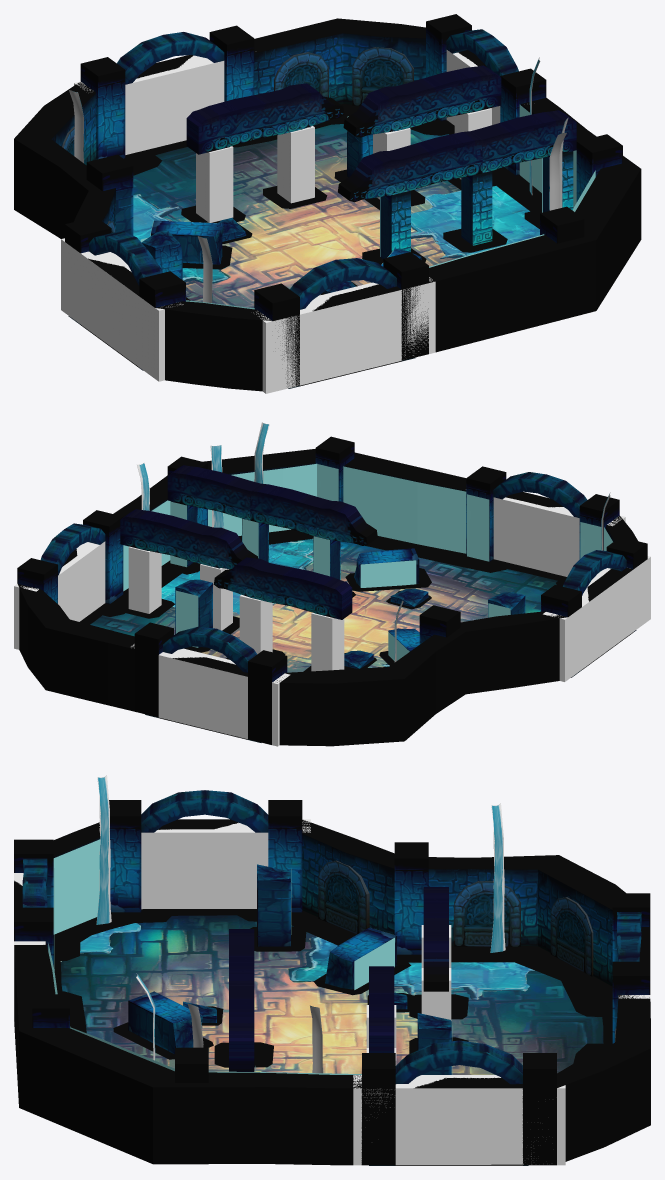
Rendered from Dungeon_051_BossRoom.fbx.
The picture shows the model from 3 angles, top to bottom: view 1: azimuth 30°, elevation 25°; view 2: azimuth 150°, elevation 25°; view 3: azimuth 270°, elevation 25°; orthographic projection. The views are drawn at different scales.
Parts seen in each view (by area): view 1: Dun_051_Room_003_Wall, DoorWay_NavMask (1) (×4), Dun_051_Room_003_Pillar_01, Dun_051_Room_003_Ground, Dun_051_Room_003_Object_01, Dun_051_Obj03_Gate (×2), Dun_051_Door_002_Arch (×4), Dun_051_Room_003_GroundWater_01, Dun_051_Room_003_Wallobject_01, Dun_051_shadow, Cube (2) (×2), Cube (×2) (+4 smaller); view 2: Dun_051_Room_003_Wall, DoorWay_NavMask (1) (×4), Dun_051_Room_003_Pillar_01, Dun_051_Room_003_GroundWater_01_Terikaeshi, Dun_051_Room_003_Ground, Dun_051_Obj03_Gate (×2), Dun_051_Room_003_Object_01, Dun_051_Door_002_Arch (×4), Dun_051_shadow, Cube (×2), Cube (2) (×2), Dun_051_Room_003_GroundWater_01 (+4 smaller); view 3: Dun_051_Room_003_Wall, Dun_051_Room_003_Ground, Dun_051_Room_003_Pillar_01, DoorWay_NavMask (1) (×2), Dun_051_shadow, Dun_051_Door_002_Arch (×4), Dun_051_Room_003_Wallobject_01, Dun_051_Room_003_GroundWater_01_Terikaeshi, Dun_051_Room_003_GroundWater_01, Dun_051_Obj03_Gate (×2), Dun_051_Room_003_Object_01, Dun_051_Water01_Tak_A1 (+5 smaller).
Part boxes in pixels (x1,y1,x2,y2): Dun_051_Room_003_Wall: [14, 18, 641, 391]; DoorWay_NavMask (1) (×4): [61, 50, 500, 393]; Dun_051_Room_003_Pillar_01: [65, 14, 622, 320]; Dun_051_Room_003_Ground: [68, 124, 460, 388]; Dun_051_Room_003_Object_01: [337, 110, 576, 258]; Dun_051_Obj03_Gate (×2): [186, 65, 501, 154]; Dun_051_Door_002_Arch (×4): [89, 29, 518, 309]; Dun_051_Room_003_GroundWater_01: [133, 186, 539, 283]; Dun_051_Room_003_Wallobject_01: [62, 47, 413, 232]; Dun_051_shadow: [124, 104, 541, 300]; Cube (2) (×2): [277, 126, 410, 203]; Cube (×2): [196, 108, 491, 222]; Dun_051_Room_003_Wall: [18, 449, 637, 746]; DoorWay_NavMask (1) (×4): [14, 497, 650, 746]; Dun_051_Room_003_Pillar_01: [17, 436, 647, 744]; Dun_051_Room_003_GroundWater_01_Terikaeshi: [123, 463, 612, 660]; Dun_051_Room_003_Ground: [90, 541, 636, 742]; Dun_051_Obj03_Gate (×2): [120, 509, 352, 619]; Dun_051_Room_003_Object_01: [167, 465, 377, 579]; Dun_051_Door_002_Arch (×4): [40, 472, 626, 672]; Dun_051_shadow: [103, 529, 563, 668]; Cube (×2): [128, 546, 344, 671]; Cube (2) (×2): [200, 564, 272, 654]; Dun_051_Room_003_GroundWater_01: [161, 538, 389, 666]; Dun_051_Room_003_Wall: [14, 820, 650, 1165]; Dun_051_Room_003_Ground: [60, 915, 603, 1165]; Dun_051_Room_003_Pillar_01: [14, 800, 650, 1165]; DoorWay_NavMask (1) (×2): [99, 819, 565, 1165]; Dun_051_shadow: [53, 909, 612, 1164]; Dun_051_Door_002_Arch (×4): [22, 790, 641, 1084]; Dun_051_Room_003_Wallobject_01: [318, 860, 616, 1041]; Dun_051_Room_003_GroundWater_01_Terikaeshi: [48, 839, 452, 1074]; Dun_051_Room_003_GroundWater_01: [60, 923, 534, 1072]; Dun_051_Obj03_Gate (×2): [369, 887, 448, 1052]; Dun_051_Room_003_Object_01: [229, 929, 254, 1071]; Dun_051_Water01_Tak_A1: [96, 775, 505, 1071].
Size of what is drawn, in the model's own units: 15 by 5.32 by 15.02.
